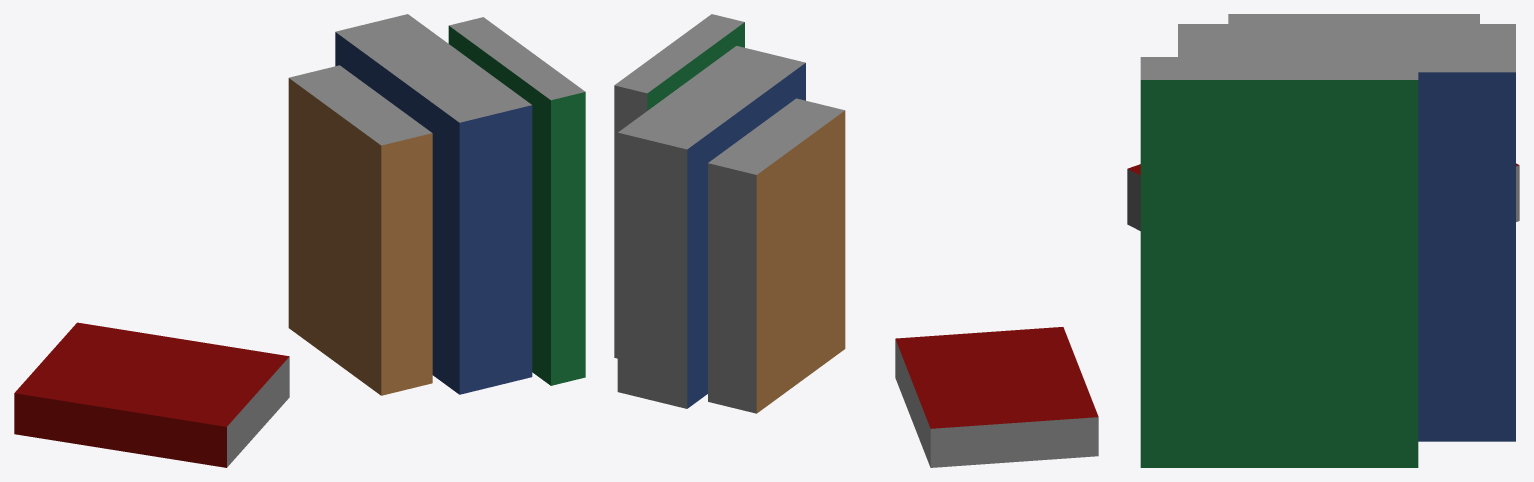
File: Books02.glb
3 views of the same model, side by side, from view 1: azimuth 30°, elevation 25°; view 2: azimuth 150°, elevation 25°; view 3: azimuth 270°, elevation 25° (orthographic). The views are drawn at different scales.
Parts seen in each view (by area): view 1: Books02; view 2: Books02; view 3: Books02.
Boxes of the visible parts, x1=… form: Books02: x1=14, y1=14, x2=585, y2=467; Books02: x1=614, y1=14, x2=1098, y2=467; Books02: x1=1127, y1=14, x2=1519, y2=467.
Size of the model in its own units: 0.5247 by 0.2931 by 0.2687.
